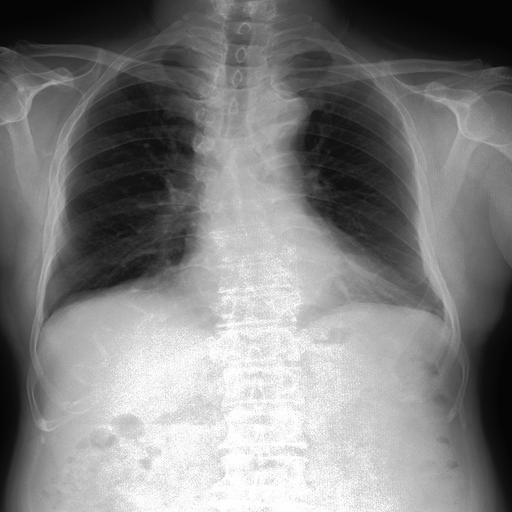Consolidation: (263, 89, 309, 129)
Nodule/Mass: (178, 239, 422, 302)
